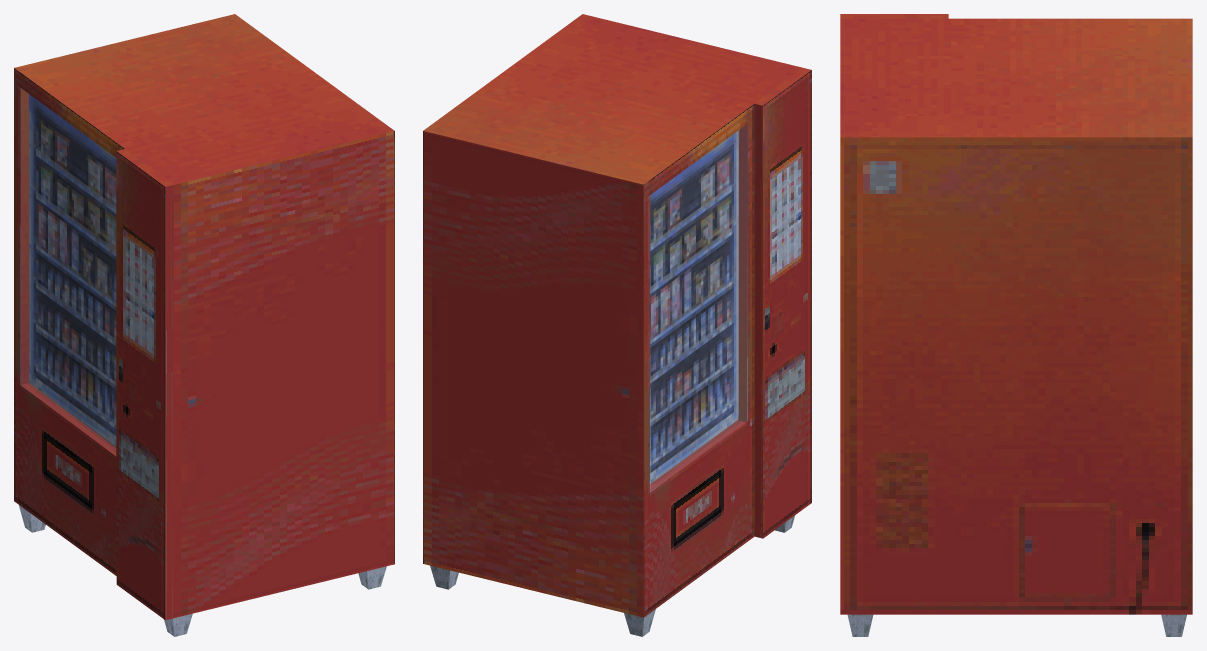
Rendered from vendingMachine.glb.
3 views of the same model, side by side, from view 1: azimuth 30°, elevation 25°; view 2: azimuth 150°, elevation 25°; view 3: azimuth 270°, elevation 25° (orthographic). The views are drawn at different scales.
Visible parts, largest first — view 1: pCube30_lambert12_0, pCube30_lambert13_0, pCube30_lambert15_0; view 2: pCube30_lambert12_0, pCube30_lambert13_0, pCube30_lambert15_0; view 3: pCube30_lambert12_0, pCube30_lambert15_0.
Part boxes in pixels (x1,y1,x2,y2): pCube30_lambert12_0: (14, 14, 394, 620); pCube30_lambert13_0: (21, 89, 115, 453); pCube30_lambert15_0: (19, 505, 386, 636); pCube30_lambert12_0: (423, 14, 811, 617); pCube30_lambert13_0: (650, 125, 747, 490); pCube30_lambert15_0: (430, 515, 794, 636); pCube30_lambert12_0: (840, 14, 1192, 614); pCube30_lambert15_0: (847, 614, 1186, 636).
Bounding box in the file's own units: 0.0724 × 0.1379 × 0.0873.
3 materials, 2 textured.
